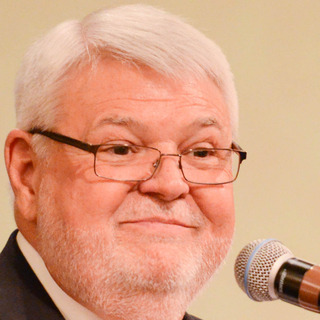eye: (183, 142, 225, 164)
